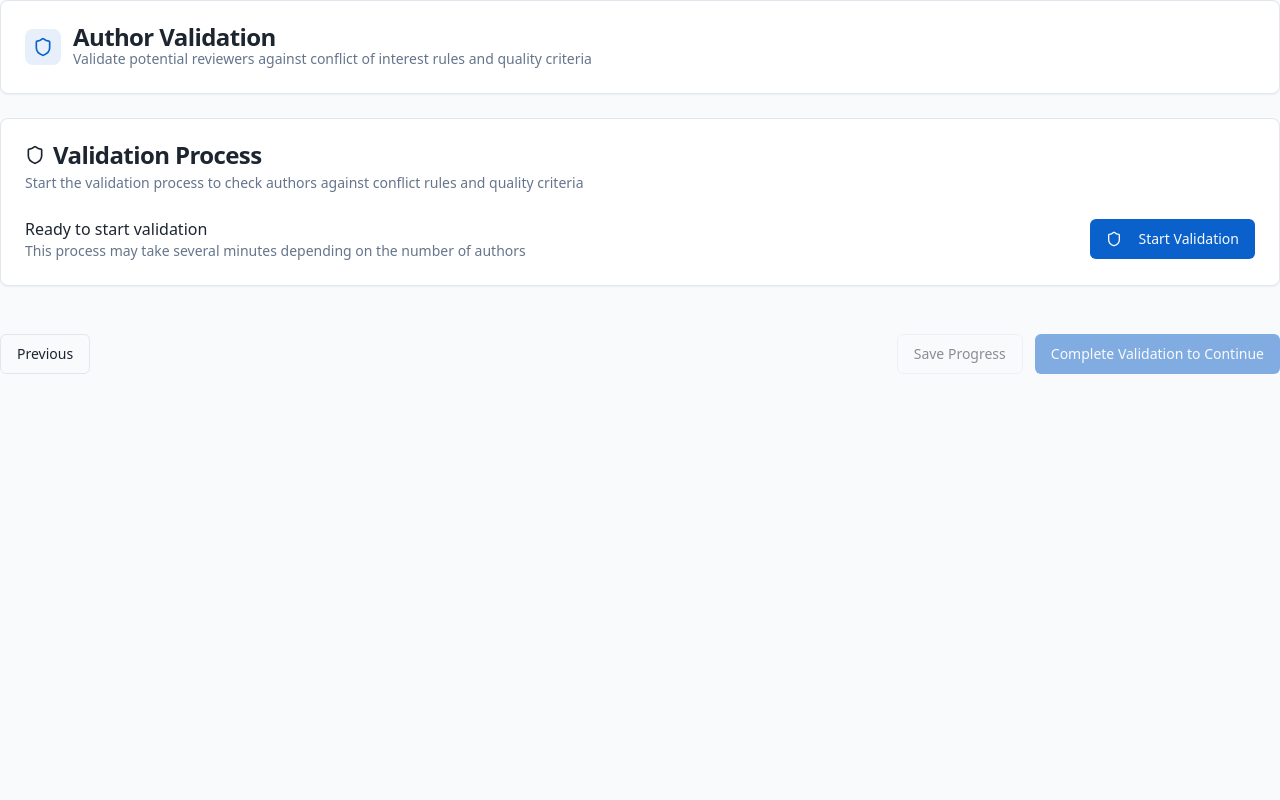
ValidationStep › Validation Process › enables next button when validation is completed
The width and height of the screenshot is (1280, 800).
Click the button "Start Validation": (1173, 239) [1090,219,1255,259]
(page scrolled)
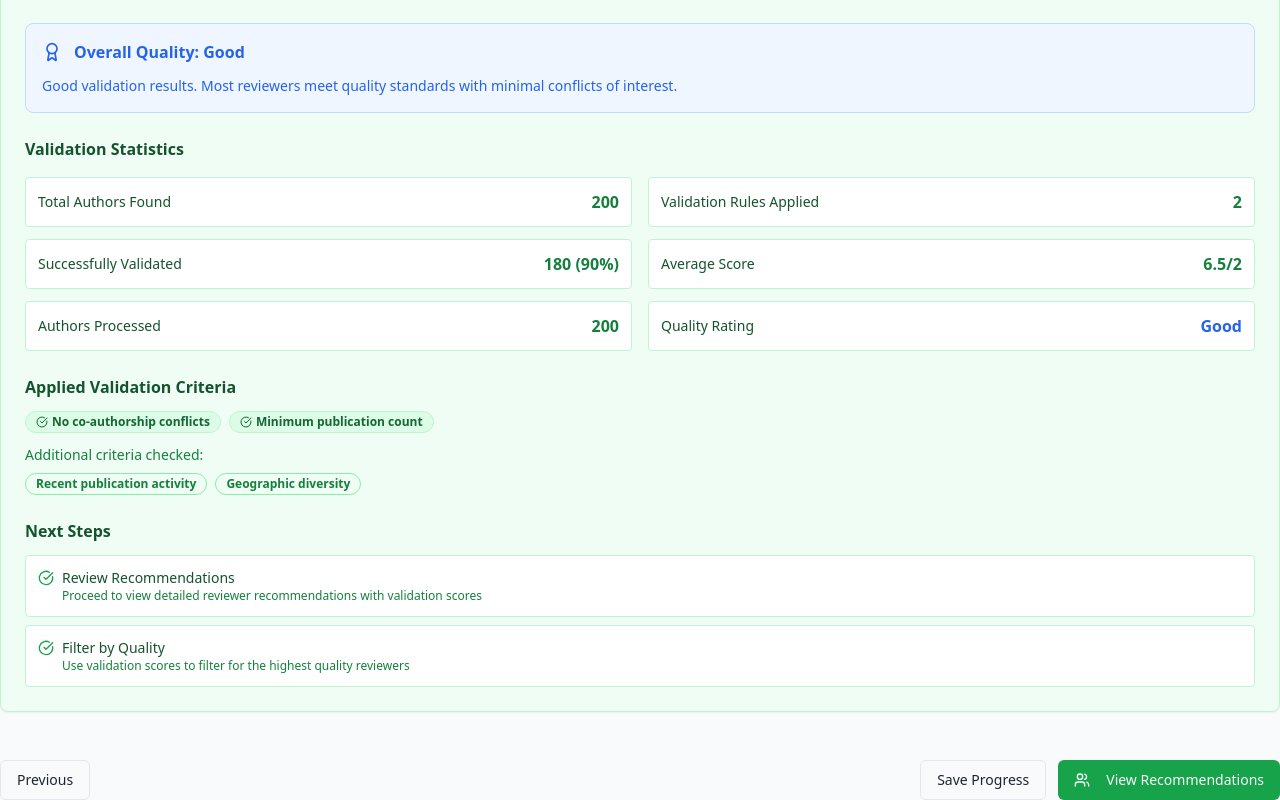
Result: the button "View Recommendations" is enabled at [1058,760,1279,799]
